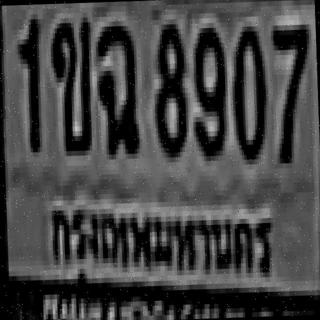A02: (49, 12, 92, 151)
A09: (95, 21, 137, 155)
N00: (230, 21, 265, 155)
N01: (16, 14, 40, 148)
N07: (270, 20, 310, 158)
N08: (152, 19, 185, 153)
N09: (190, 25, 225, 154)
P04: (44, 184, 280, 299)
